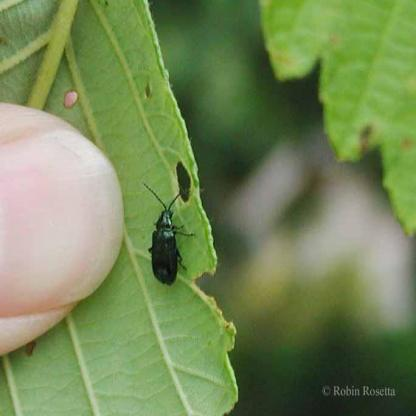beetle: (141, 186, 188, 293)
